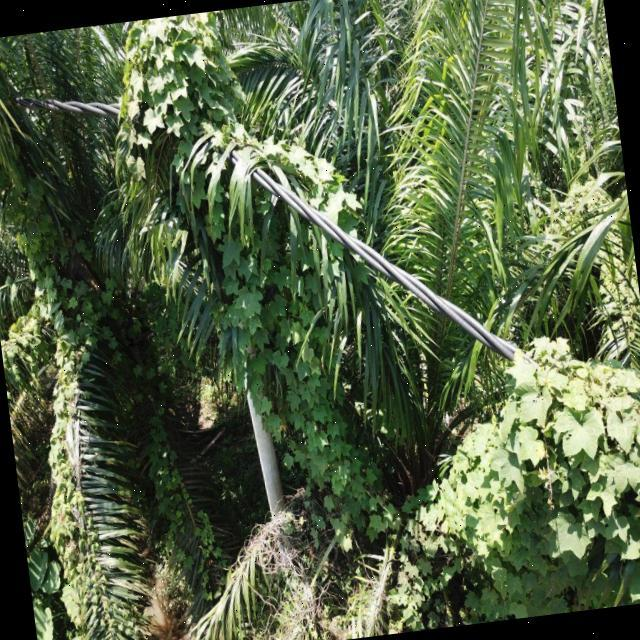critical vegetation: (96, 22, 397, 516)
